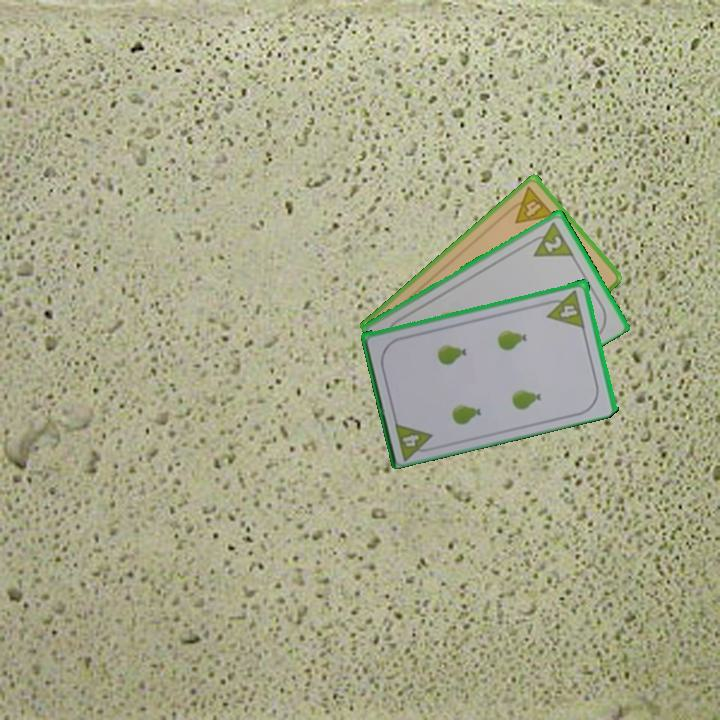2p: (524, 218, 576, 260)
4p: (503, 183, 557, 226), (545, 299, 585, 330), (399, 430, 422, 449)
